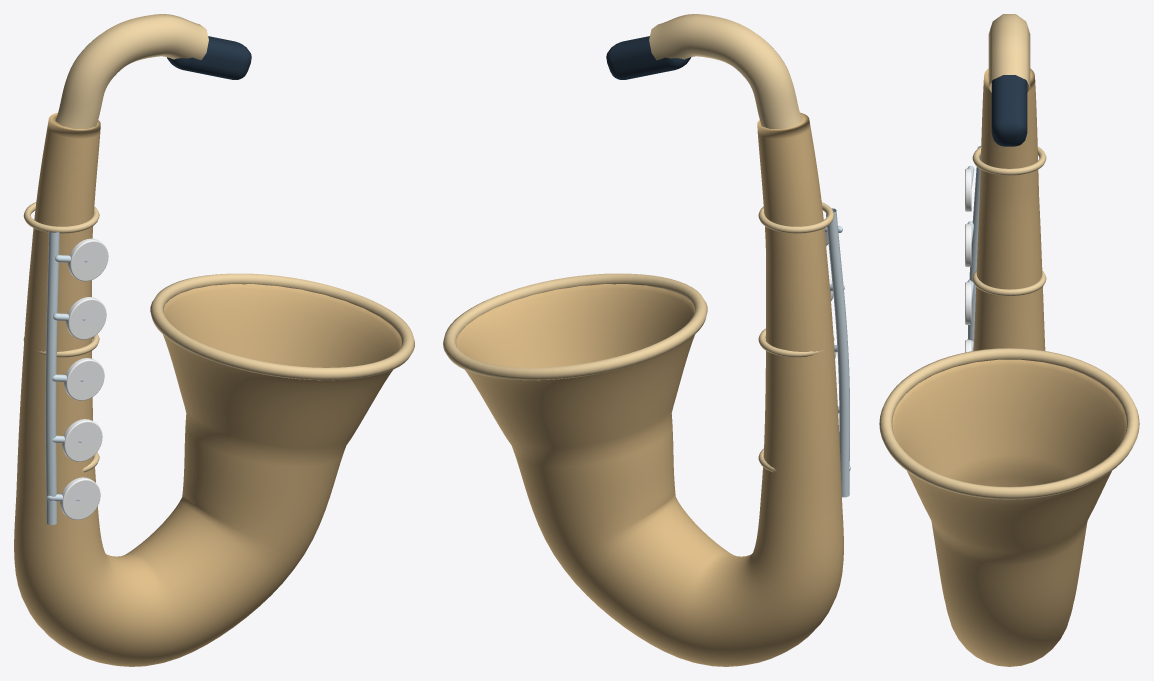
File: jazz.glb
3 renders of one model, left to right at view 1: azimuth 30°, elevation 25°; view 2: azimuth 150°, elevation 25°; view 3: azimuth 270°, elevation 25°, orthographic. The views are drawn at different scales.
Parts seen in each view (by area): view 1: jazz_Sanctuary_ChampagneBrass, jazz_Sanctuary_PolishedGold, jazz_Sanctuary_Porcelain, jazz_Sanctuary_Silver, jazz_Sanctuary_Vinyl; view 2: jazz_Sanctuary_ChampagneBrass, jazz_Sanctuary_PolishedGold, jazz_Sanctuary_Silver, jazz_Sanctuary_Vinyl; view 3: jazz_Sanctuary_ChampagneBrass, jazz_Sanctuary_PolishedGold, jazz_Sanctuary_Vinyl, jazz_Sanctuary_Silver, jazz_Sanctuary_Porcelain.
Part boxes in pixels (x1=…): jazz_Sanctuary_ChampagneBrass: x1=14, y1=112, x2=401, y2=666; jazz_Sanctuary_PolishedGold: x1=23, y1=14, x2=414, y2=472; jazz_Sanctuary_Porcelain: x1=60, y1=238, x2=108, y2=520; jazz_Sanctuary_Silver: x1=45, y1=231, x2=87, y2=524; jazz_Sanctuary_Vinyl: x1=167, y1=36, x2=251, y2=79; jazz_Sanctuary_ChampagneBrass: x1=456, y1=112, x2=843, y2=666; jazz_Sanctuary_PolishedGold: x1=443, y1=14, x2=834, y2=472; jazz_Sanctuary_Silver: x1=824, y1=208, x2=850, y2=497; jazz_Sanctuary_Vinyl: x1=606, y1=36, x2=691, y2=79; jazz_Sanctuary_ChampagneBrass: x1=892, y1=68, x2=1126, y2=666; jazz_Sanctuary_PolishedGold: x1=879, y1=14, x2=1139, y2=499; jazz_Sanctuary_Vinyl: x1=991, y1=75, x2=1027, y2=146; jazz_Sanctuary_Silver: x1=967, y1=145, x2=981, y2=351; jazz_Sanctuary_Porcelain: x1=965, y1=168, x2=971, y2=352.
Size of the model in its own units: 1.43 by 2.33 by 0.88.
